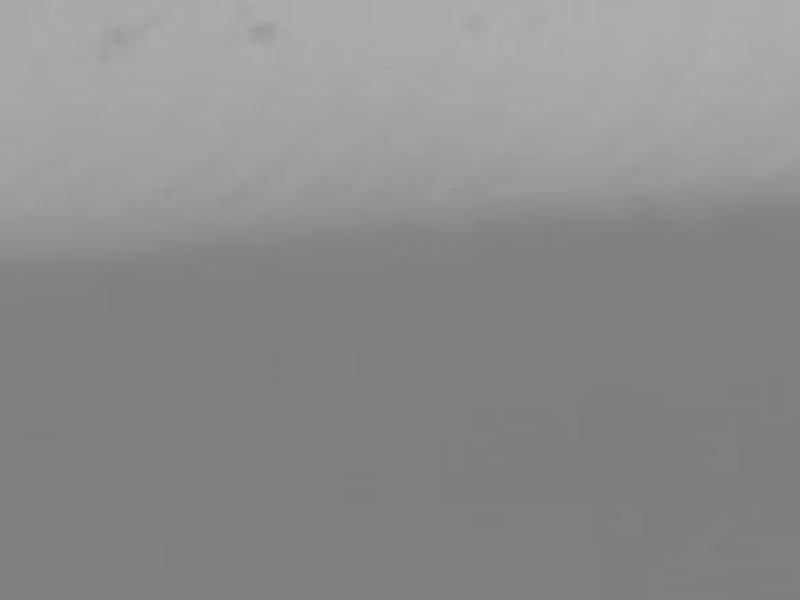defect: (98, 21, 149, 58), (245, 18, 279, 44), (465, 9, 487, 35)
